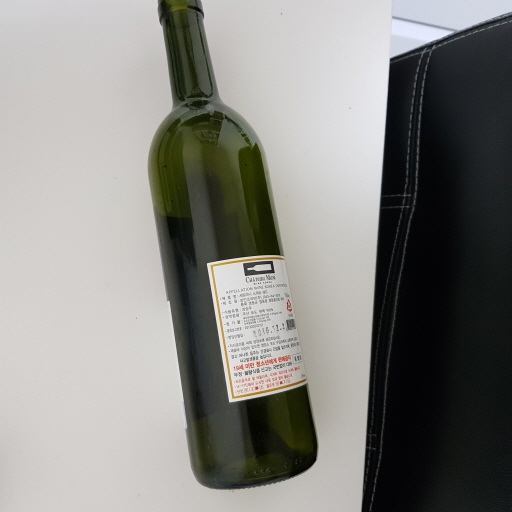Glass_2: (147, 1, 322, 495)
